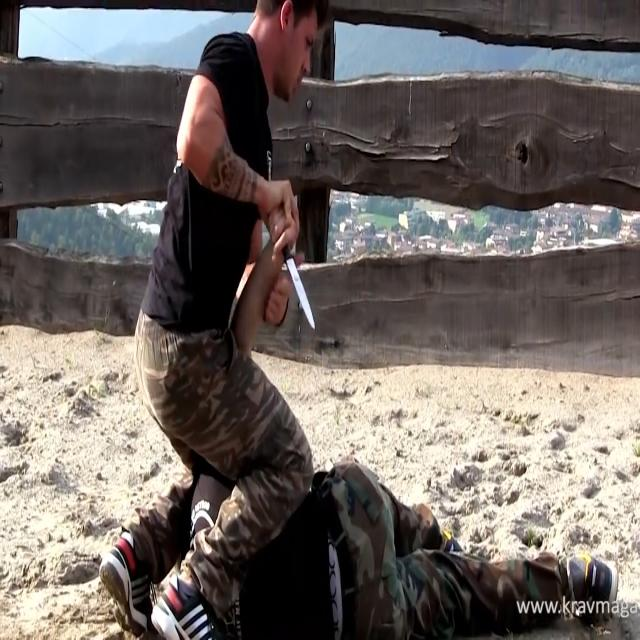knife: (283, 237, 319, 338)
